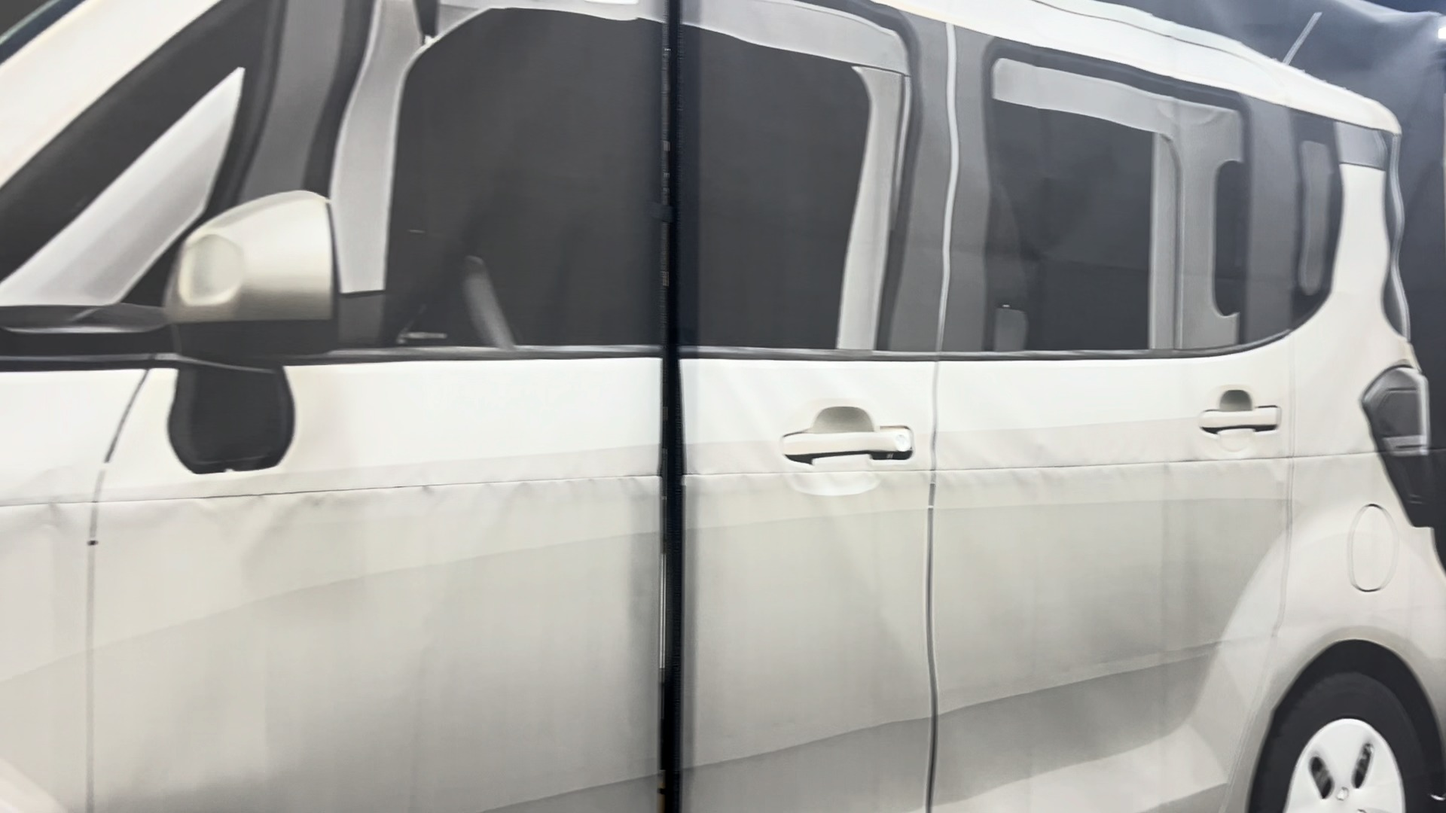door_handle: (781, 426, 913, 463), (1200, 406, 1280, 432)
fuel_cap: (1349, 505, 1397, 591)
side_mirror: (163, 191, 334, 324)
tail_light: (1362, 366, 1436, 526)
